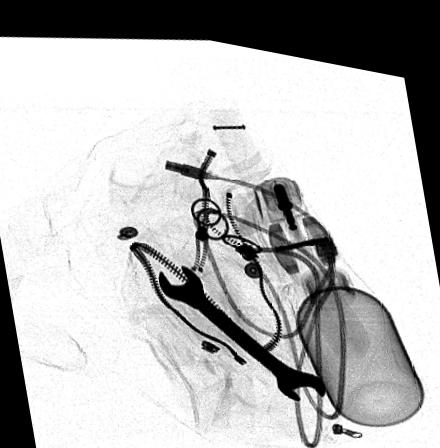Wrench: (156, 256, 326, 389)
